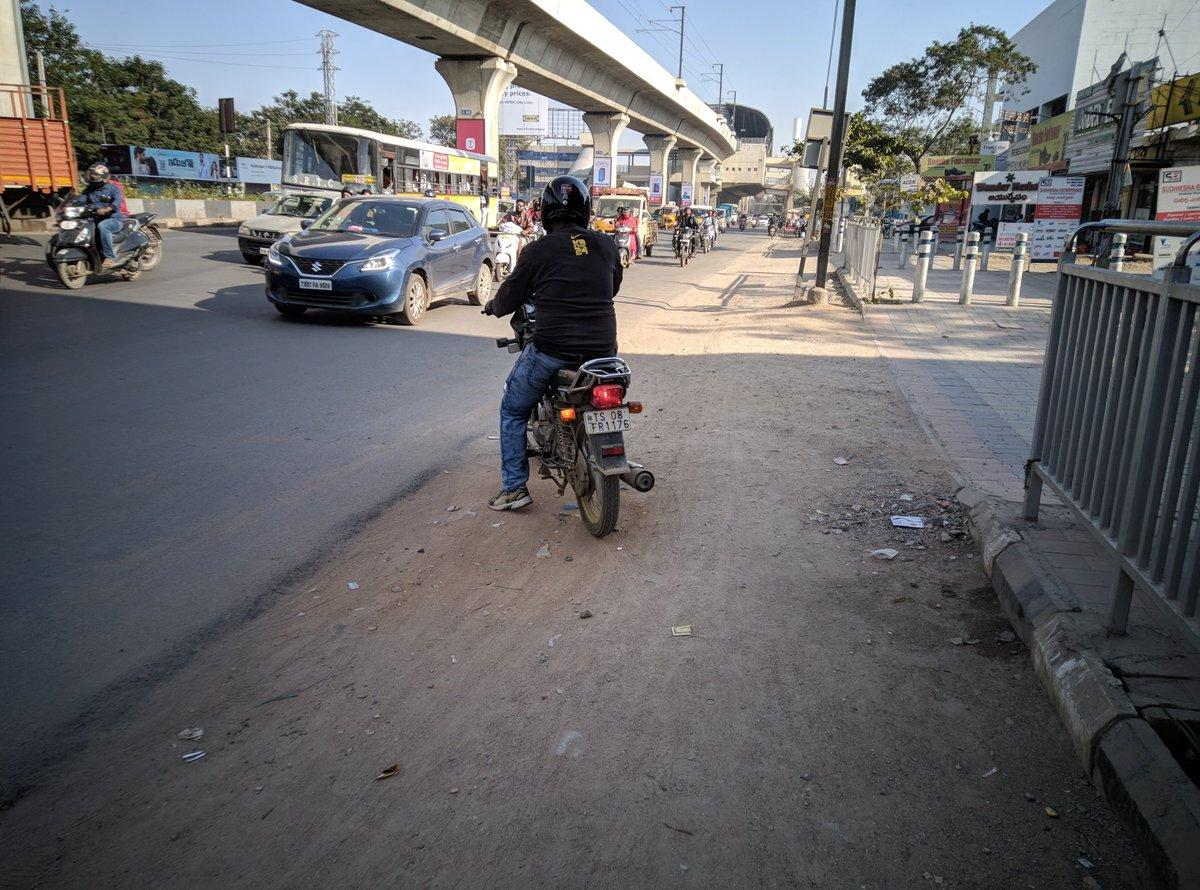plate: (586, 408, 631, 434)
